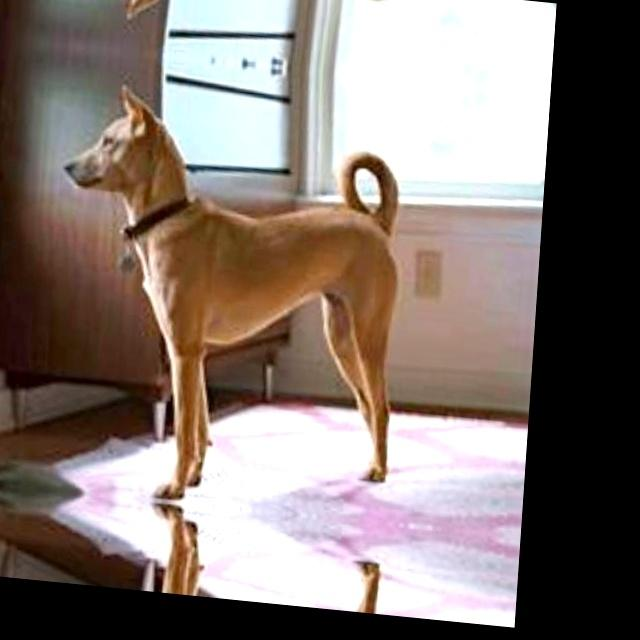dog: (36, 84, 426, 510), (29, 504, 398, 616), (68, 0, 434, 42)
